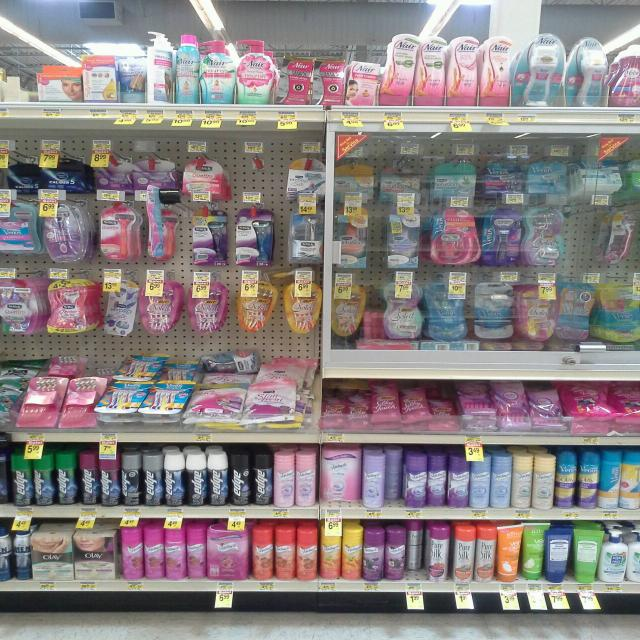unorganised: (379, 33, 422, 105), (32, 451, 78, 503), (145, 30, 173, 106), (345, 59, 380, 106), (496, 522, 523, 582), (598, 448, 622, 508), (120, 521, 143, 579), (99, 447, 121, 505), (206, 350, 259, 374), (363, 522, 384, 582), (229, 451, 251, 506), (274, 521, 294, 580), (512, 450, 532, 508), (163, 450, 184, 505), (121, 450, 141, 507), (406, 521, 426, 578), (386, 447, 403, 505)
